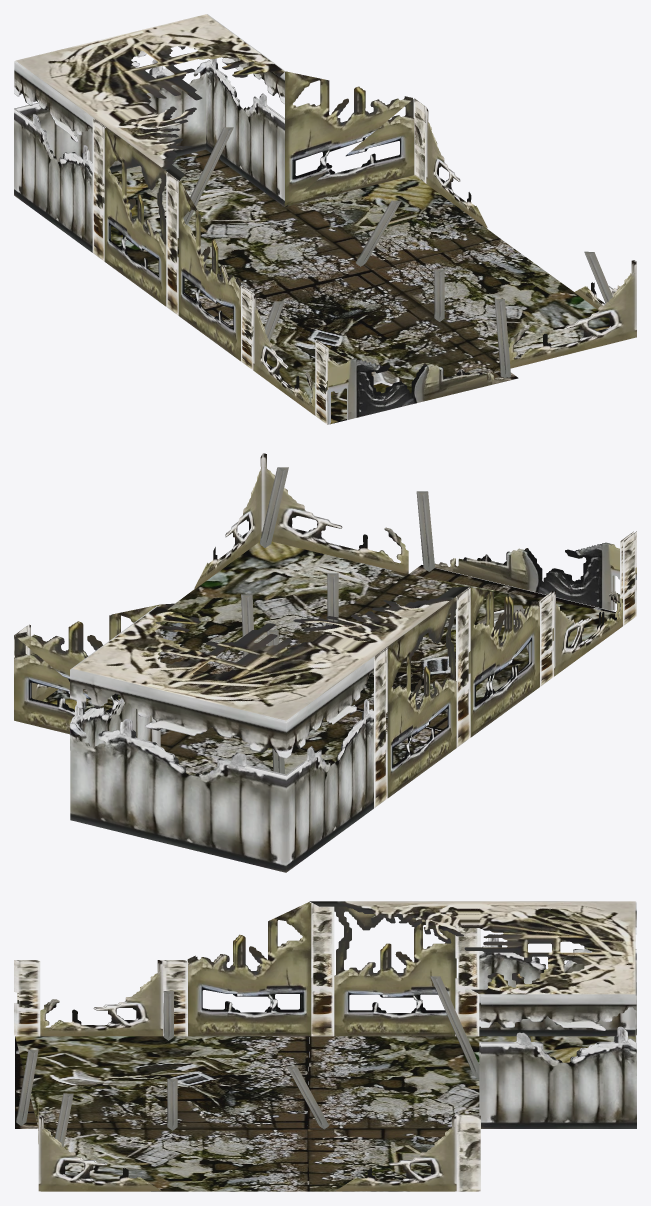
The model's file is d_hq_dam_hdtex.glb.
The picture shows the model from 3 angles, top to bottom: view 1: azimuth 30°, elevation 25°; view 2: azimuth 150°, elevation 25°; view 3: azimuth 270°, elevation 25°; orthographic projection. The views are drawn at different scales.
Parts seen in each view (by area): view 1: SensorControldamaged; view 2: SensorControldamaged; view 3: SensorControldamaged.
Boxes of the visible parts, bbox=[...] form: SensorControldamaged: bbox=[14, 14, 636, 424]; SensorControldamaged: bbox=[14, 453, 636, 872]; SensorControldamaged: bbox=[14, 901, 636, 1191].
Size of the model in its own units: 18.81 by 7.58 by 31.75.
2 materials, 2 textured.
